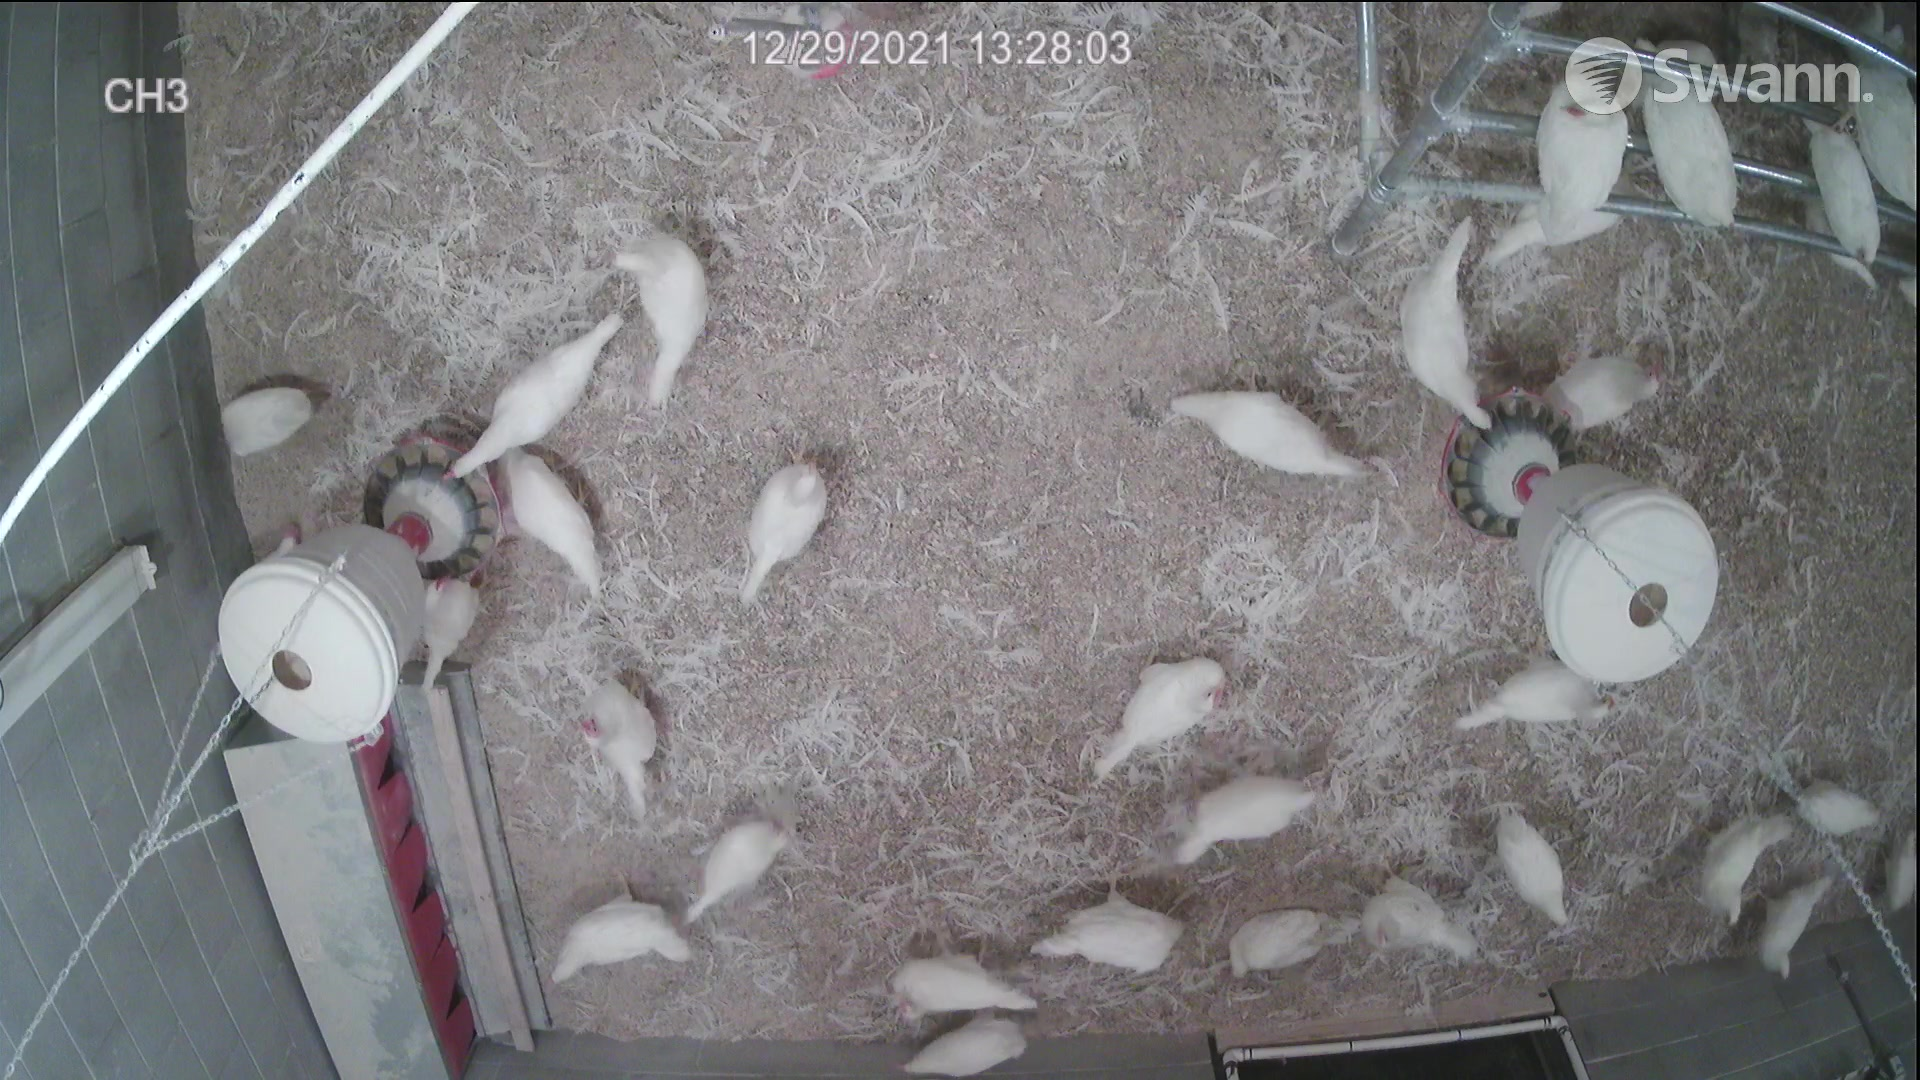Feeding: (433, 314, 633, 473), (1407, 219, 1515, 430)
Foraging: (1156, 377, 1389, 498), (1030, 895, 1185, 968), (1486, 811, 1577, 931)
Perching: (1636, 50, 1754, 236), (1513, 61, 1639, 223), (1797, 105, 1887, 291), (1855, 17, 1920, 219)
